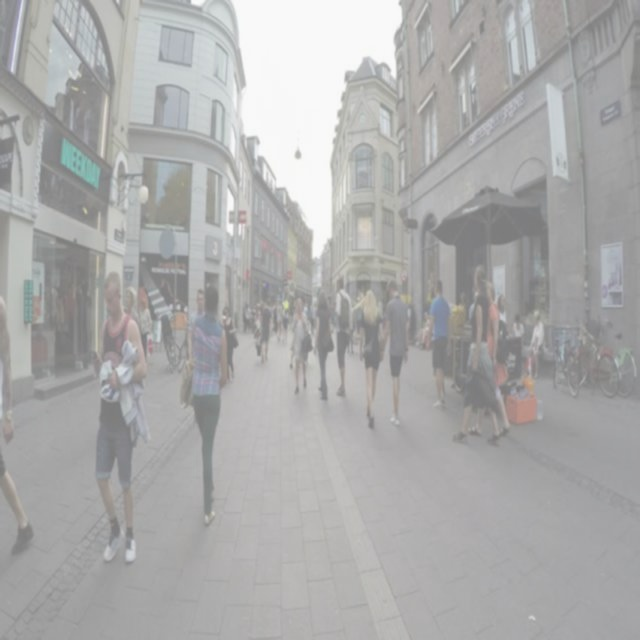pessoa: (87, 268, 150, 567), (178, 282, 229, 530), (0, 288, 36, 561), (449, 260, 501, 447), (468, 278, 510, 436), (48, 28, 98, 150), (380, 276, 410, 427), (41, 260, 84, 360), (358, 286, 386, 431), (424, 278, 452, 410), (330, 274, 353, 398), (312, 286, 336, 402), (413, 268, 437, 352), (290, 296, 310, 396), (526, 308, 547, 382), (186, 286, 205, 364), (292, 300, 310, 372), (222, 306, 236, 386), (240, 296, 266, 339), (259, 296, 274, 364), (138, 296, 153, 363), (122, 285, 140, 331), (511, 312, 526, 364), (302, 293, 318, 336), (458, 285, 476, 320), (347, 301, 355, 356), (275, 297, 284, 343), (269, 298, 279, 336), (496, 293, 506, 324), (282, 306, 290, 344), (329, 298, 336, 334), (289, 294, 298, 320)
